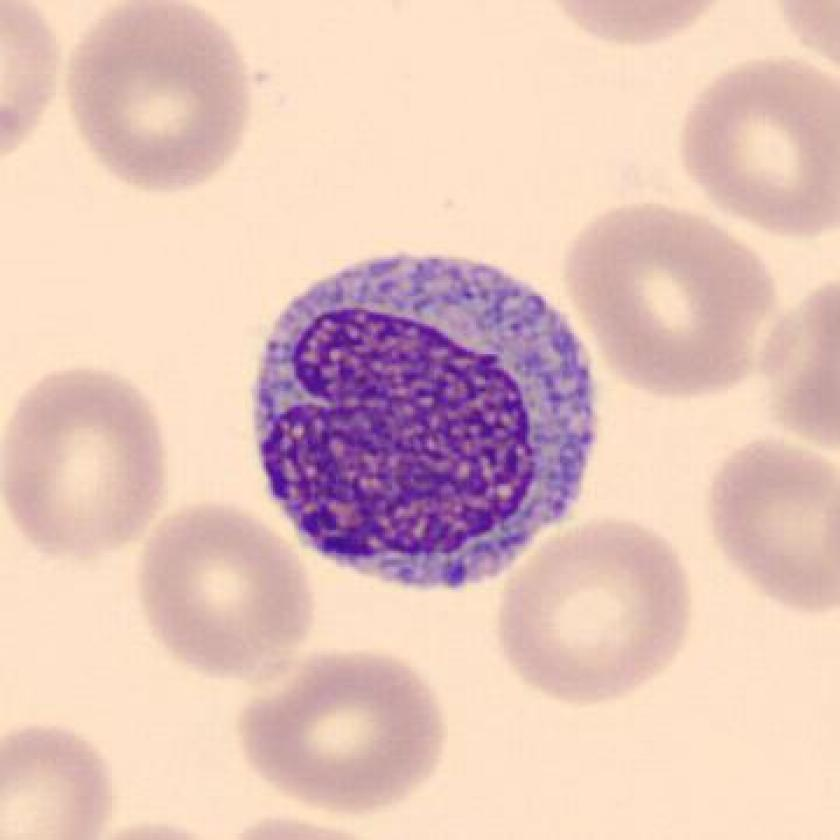monocyte: (244, 228, 615, 610)
